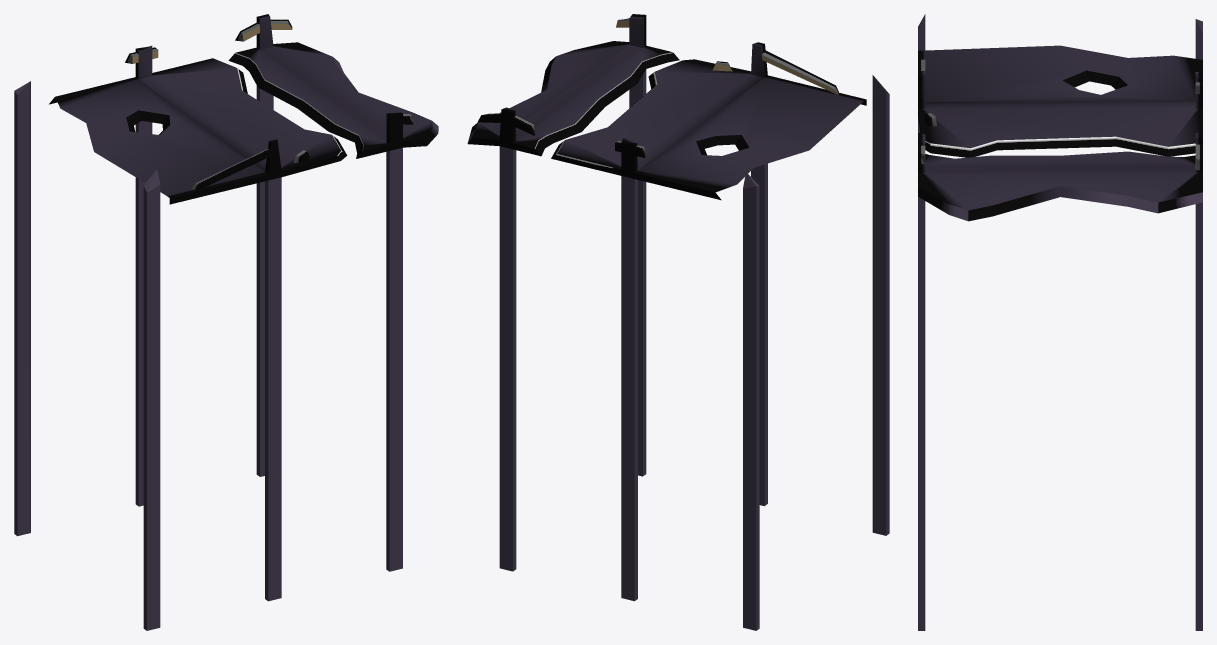
File: BrokenBridge02.fbx
3 views of the same model, side by side, from view 1: azimuth 30°, elevation 25°; view 2: azimuth 150°, elevation 25°; view 3: azimuth 270°, elevation 25° (orthographic). The views are drawn at different scales.
Parts seen in each view (by area): view 1: BrokenBridge02; view 2: BrokenBridge02; view 3: BrokenBridge02.
Boxes of the visible parts, x1,y1,x2,y2 form: BrokenBridge02: (14,14,438,630); BrokenBridge02: (467,14,889,630); BrokenBridge02: (918,14,1202,630).
Size of the model in its own units: 316 by 439 by 231.
